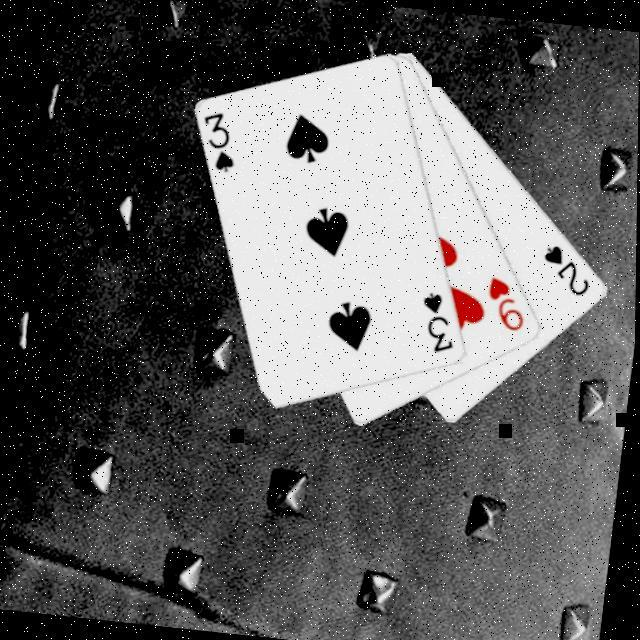2S: (538, 240, 599, 299)
3S: (415, 287, 465, 356), (195, 106, 245, 175)
9H: (482, 273, 535, 335)
